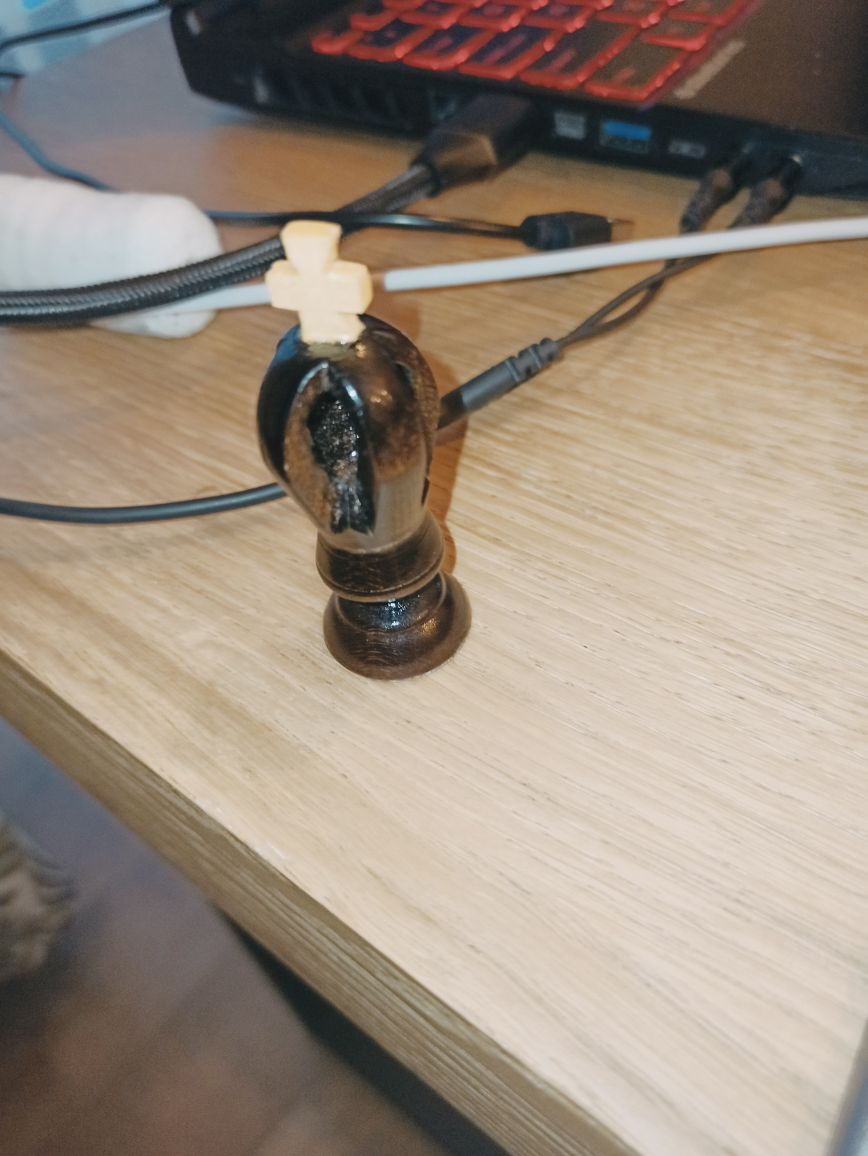bking: (252, 221, 471, 683)
